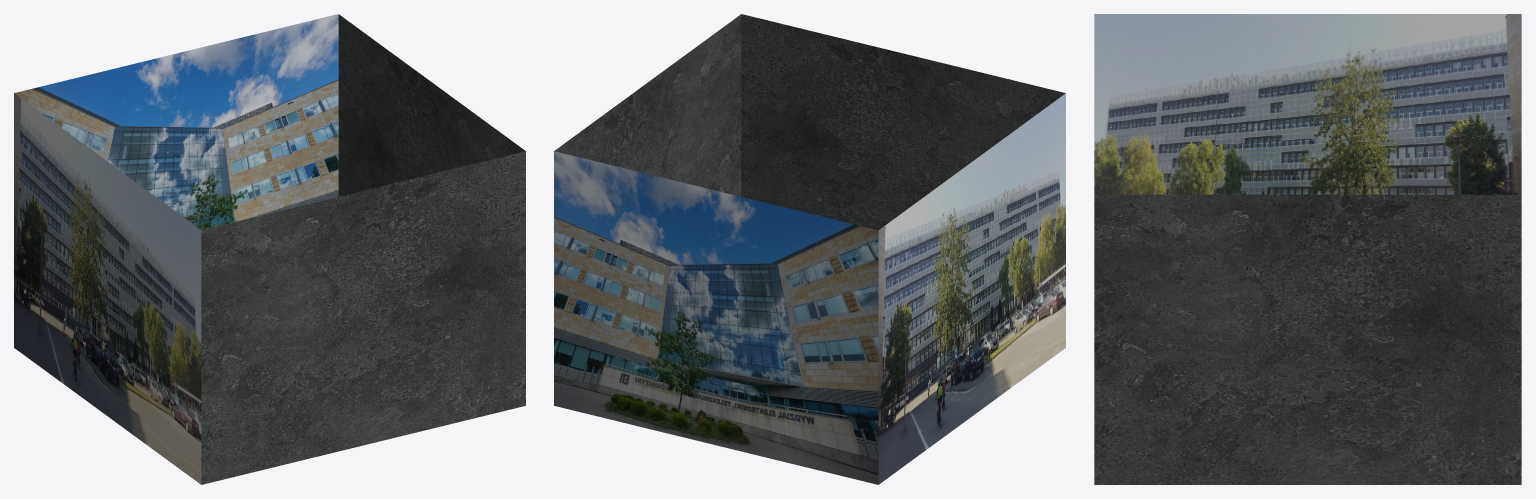
File: Robot3.gltf
The picture shows the model from 3 angles, left to right: view 1: azimuth 30°, elevation 25°; view 2: azimuth 150°, elevation 25°; view 3: azimuth 270°, elevation 25°; orthographic projection. The views are drawn at different scales.
Parts seen in each view (by area): view 1: Plane.003, Plane.005, Plane.002, Plane.001; view 2: Plane.002, Plane.005, Plane.003, Plane.001; view 3: Plane.001, Plane.005.
Boxes of the visible parts, x1,y1,x2,y2 form: Plane.003: (201,151,525,484); Plane.005: (14,93,201,484); Plane.002: (14,14,338,230); Plane.001: (338,14,525,196); Plane.002: (554,151,878,484); Plane.005: (878,93,1065,484); Plane.003: (741,14,1065,230); Plane.001: (554,14,741,196); Plane.001: (1094,194,1521,484); Plane.005: (1094,14,1521,194).
Size of the model in its own units: 80 by 60 by 80.
